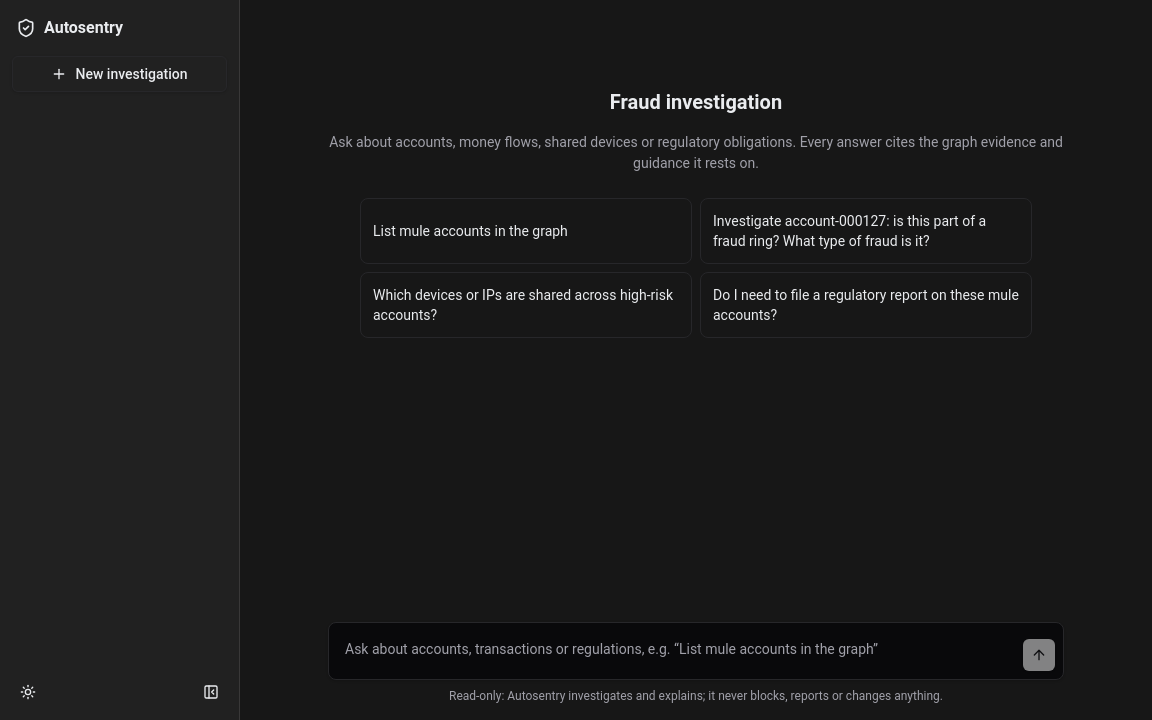
Test: Investigation page › streams a question into steps and a cited answer, and opens evidence from a citation
Click the button "List mule accounts in the graph" at (526, 231), box [360,198,692,264]
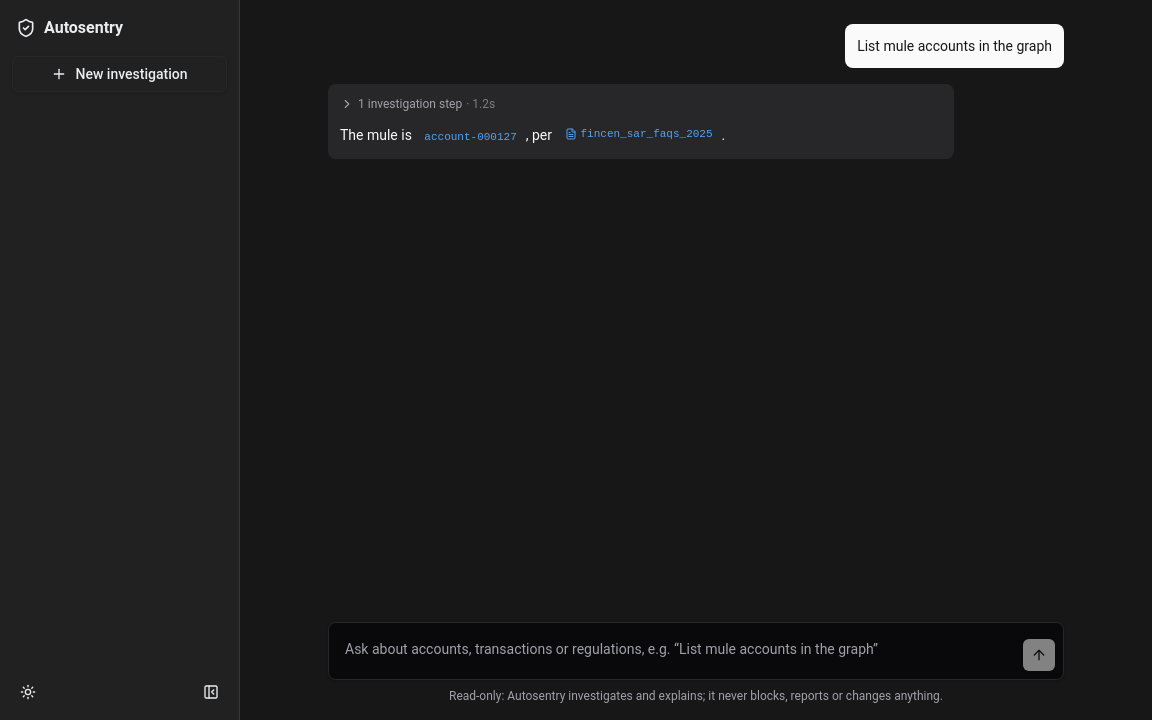
Expected: the text "List mule accounts in the graph" is shown, [845,24,1064,68]
Result: the button "1 investigation step · 1.2s" is shown at [340,96,495,112]
Click the button "account-000127" at (471, 137), box [417,127,524,147]
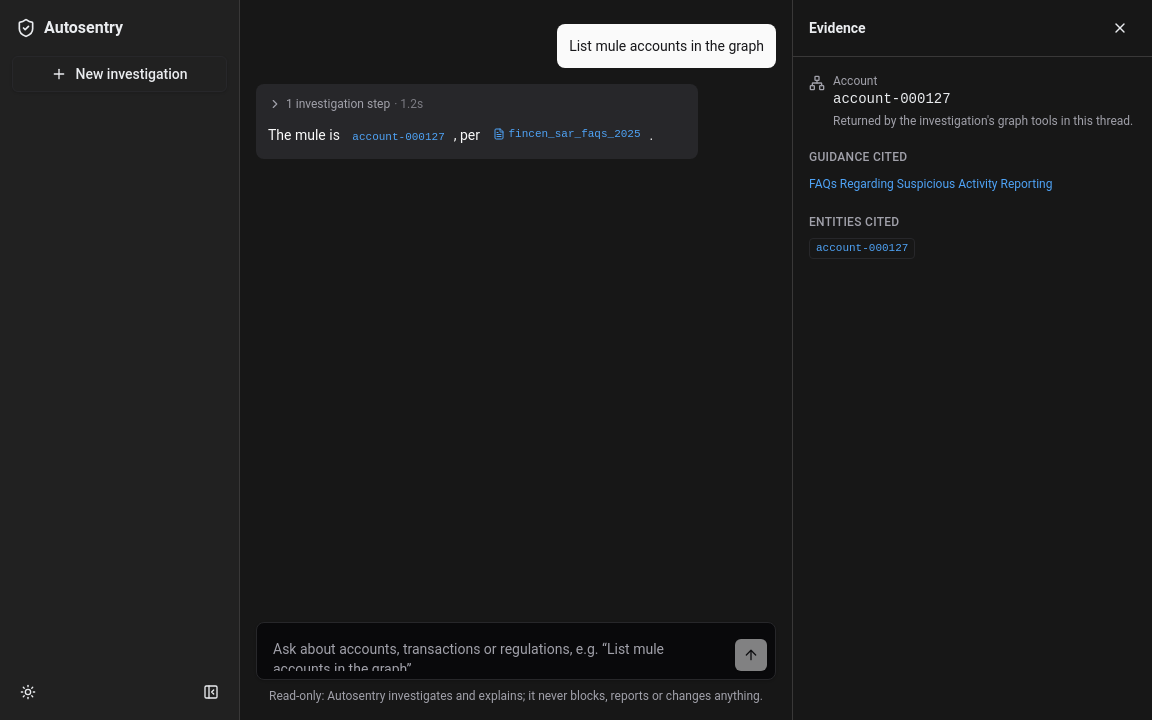
Result: the text "Account" is shown at [833,74,877,88]
Click the button "fincen_sar_faqs_2025" at (566, 134), box [486,124,648,144]
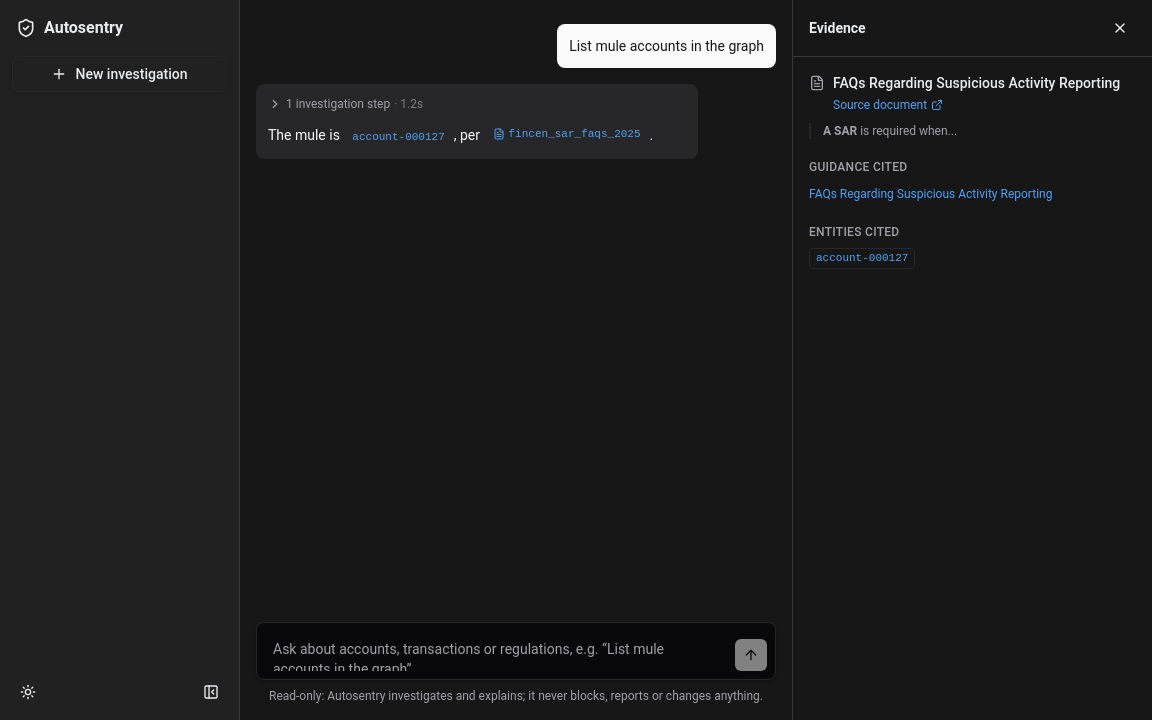
Result: the text "A SAR" is shown at [823,124,857,138]
